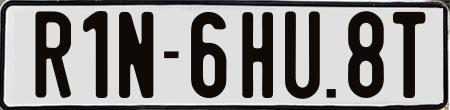1: (80, 8, 107, 99)
6: (191, 12, 230, 98)
8: (346, 9, 382, 101)
H: (242, 10, 274, 101)
N: (119, 9, 154, 99)
R: (33, 8, 71, 98)
T: (393, 11, 425, 103)
U: (285, 10, 322, 102)
